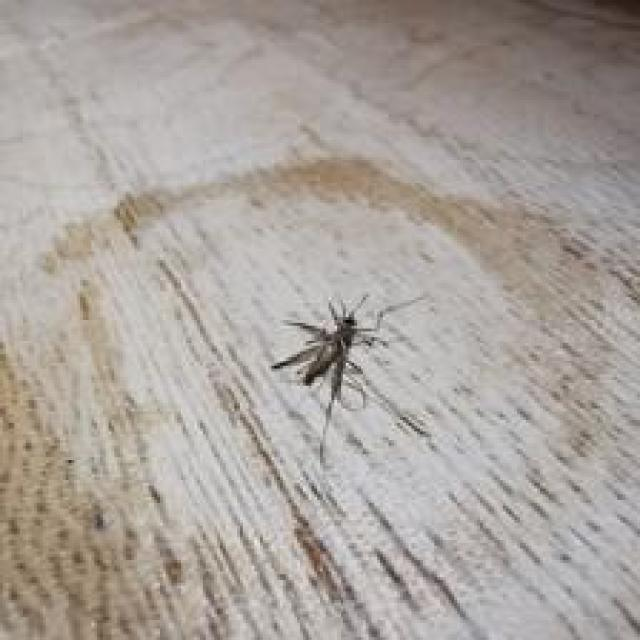Culex: (269, 290, 434, 464)
